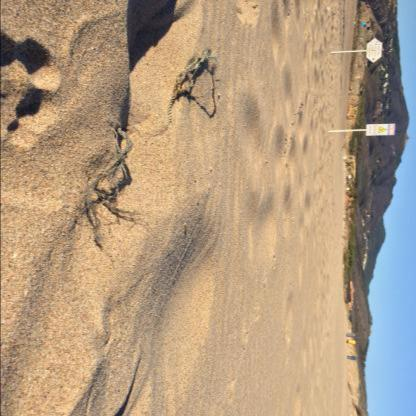Other litter: (83, 127, 137, 240), (167, 50, 222, 126)
